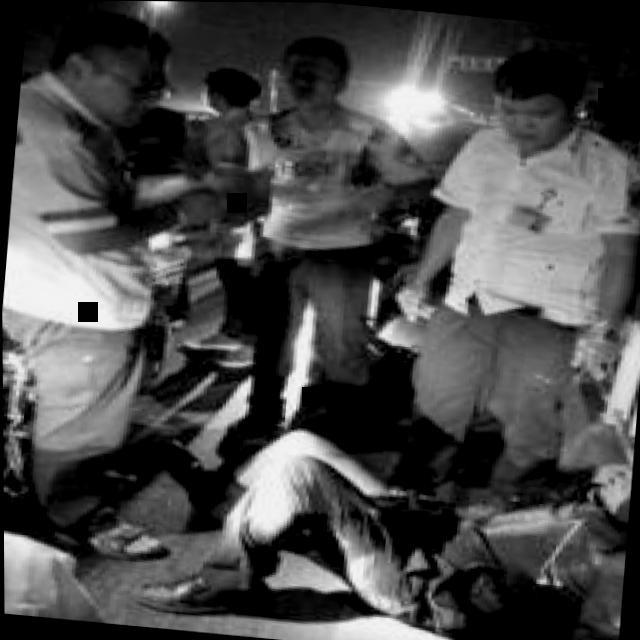Fall-Detected: (88, 379, 635, 640)
